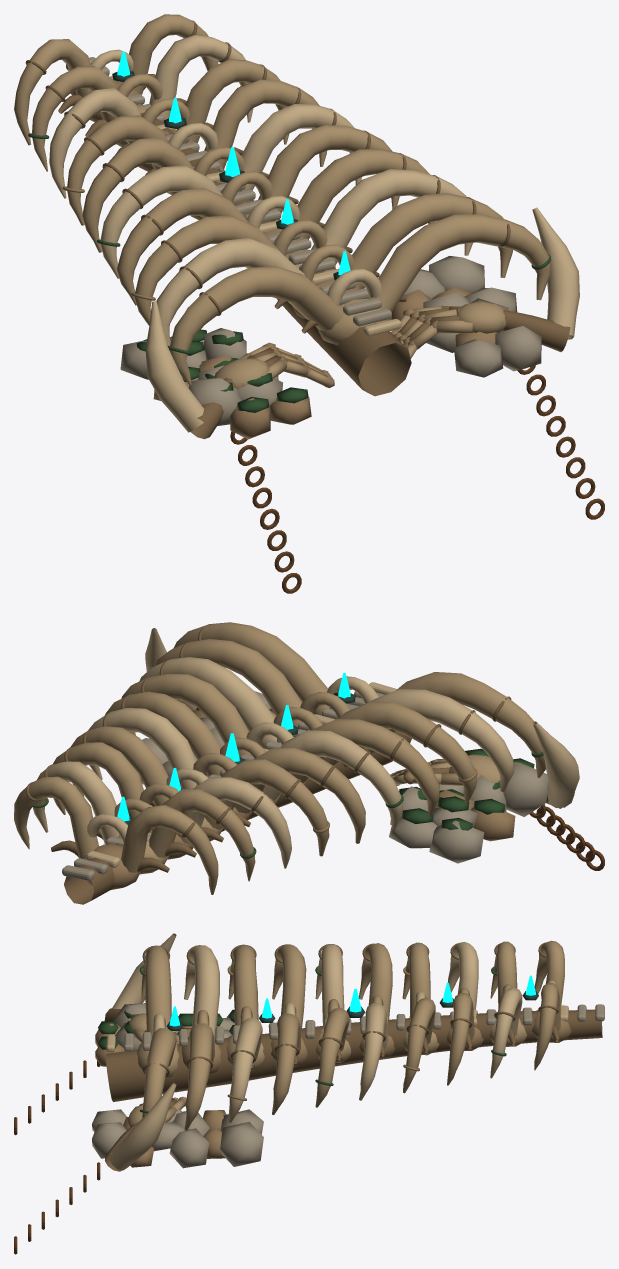
File: titan-rib-bridge-v007.glb
3 views of the same model, one above another, from view 1: azimuth 30°, elevation 25°; view 2: azimuth 150°, elevation 25°; view 3: azimuth 270°, elevation 25° (orthographic). The views are drawn at different scales.
Visible parts, largest first — view 1: TitanBridge_Rib_01_R, TitanBridge_Rib_01_L, TitanBridge_ContinuousSpinalCore, TitanBridge_Rib_02_R, TitanBridge_Rib_03_R, TitanBridge_Rib_02_L, TitanBridge_Rib_03_L, TitanBridge_Rib_04_L, TitanBridge_Rib_04_R, TitanBridge_Rib_05_R, TitanBridge_Rib_05_L, TitanBridge_Rib_06_L (+30 smaller); view 2: TitanBridge_Rib_01_L, TitanBridge_Rib_02_R, TitanBridge_Rib_02_L, TitanBridge_Rib_03_L, TitanBridge_Rib_01_R, TitanBridge_Rib_04_L, TitanBridge_Rib_05_L, TitanBridge_Rib_04_R, TitanBridge_Rib_10_L, TitanBridge_Rib_03_R, TitanBridge_Rib_06_L, TitanBridge_Rib_10_R (+32 smaller); view 3: TitanBridge_ContinuousSpinalCore, TitanBridge_Rib_02_L, TitanBridge_Rib_01_L, TitanBridge_ForegroundTusk_R, TitanBridge_Rib_02_R, TitanBridge_Rib_04_L, TitanBridge_Rib_03_R, TitanBridge_Rib_03_L, TitanBridge_Rib_04_R, TitanBridge_Rib_01_R, TitanBridge_Rib_06_L, TitanBridge_Rib_05_R (+18 smaller).
Part boxes in pixels (x1,y1,x2,y2): TitanBridge_Rib_01_R: [367, 214, 550, 311]; TitanBridge_Rib_01_L: [169, 266, 343, 384]; TitanBridge_ContinuousSpinalCore: [70, 91, 411, 396]; TitanBridge_Rib_02_R: [352, 193, 512, 289]; TitanBridge_Rib_03_R: [311, 169, 472, 264]; TitanBridge_Rib_02_L: [156, 238, 304, 345]; TitanBridge_Rib_03_L: [135, 215, 288, 325]; TitanBridge_Rib_04_L: [116, 188, 249, 305]; TitanBridge_Rib_04_R: [297, 149, 434, 239]; TitanBridge_Rib_05_R: [258, 125, 399, 213]; TitanBridge_Rib_05_L: [100, 165, 223, 278]; TitanBridge_Rib_06_L: [82, 137, 194, 252]; TitanBridge_Rib_01_L: [388, 672, 545, 777]; TitanBridge_Rib_02_R: [155, 639, 302, 726]; TitanBridge_Rib_02_L: [358, 689, 514, 791]; TitanBridge_Rib_03_L: [324, 701, 477, 803]; TitanBridge_Rib_01_R: [174, 622, 329, 715]; TitanBridge_Rib_04_L: [293, 718, 439, 817]; TitanBridge_Rib_05_L: [262, 730, 402, 829]; TitanBridge_Rib_04_R: [121, 673, 250, 756]; TitanBridge_Rib_10_L: [121, 804, 218, 894]; TitanBridge_Rib_03_R: [139, 657, 276, 748]; TitanBridge_Rib_06_L: [234, 747, 365, 843]; TitanBridge_Rib_10_R: [14, 776, 98, 858]; TitanBridge_ContinuousSpinalCore: [106, 1009, 602, 1101]; TitanBridge_Rib_02_L: [184, 945, 219, 1036]; TitanBridge_Rib_01_L: [141, 945, 171, 1036]; TitanBridge_ForegroundTusk_R: [109, 1083, 176, 1170]; TitanBridge_Rib_02_R: [184, 1023, 214, 1130]; TitanBridge_Rib_04_L: [272, 944, 306, 1028]; TitanBridge_Rib_03_R: [228, 1018, 262, 1122]; TitanBridge_Rib_03_L: [228, 945, 258, 1025]; TitanBridge_Rib_04_R: [272, 1013, 300, 1114]; TitanBridge_Rib_01_R: [142, 1028, 176, 1117]; TitanBridge_Rib_06_L: [359, 943, 392, 1019]; TitanBridge_Rib_05_R: [315, 1007, 349, 1107].
Bounding box in the file's own units: 5.18 × 3.3 × 7.69.
